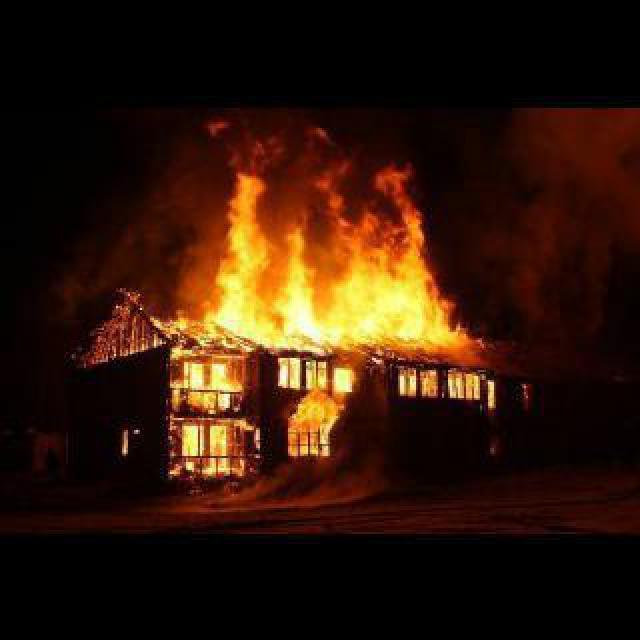fire: (181, 119, 466, 344), (277, 387, 340, 456), (174, 417, 237, 474), (180, 361, 242, 397)
